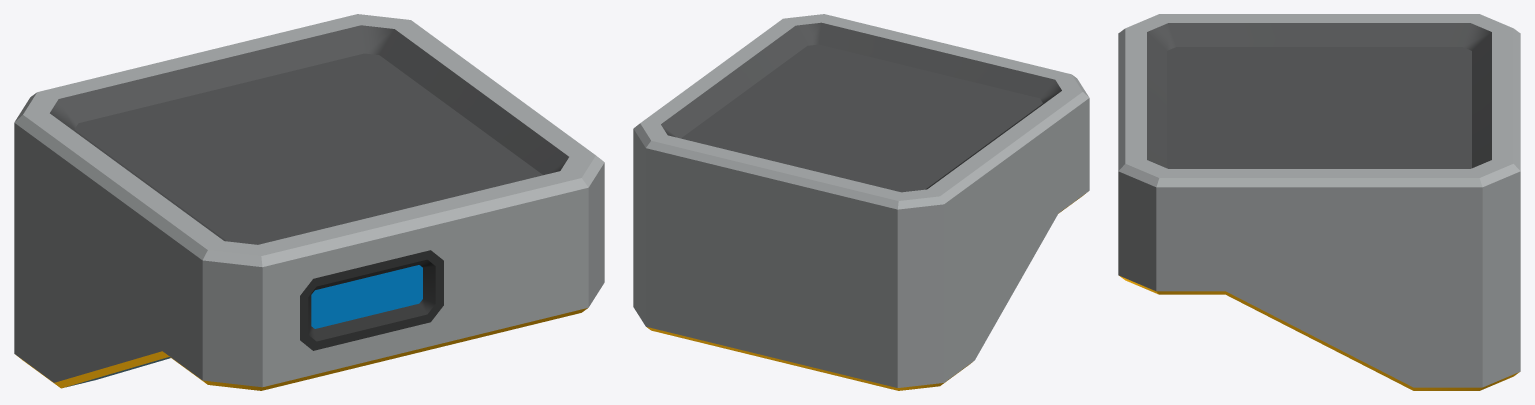
File: Crate_003_001.fbx
3 views of the same model, side by side, from view 1: azimuth 30°, elevation 25°; view 2: azimuth 150°, elevation 25°; view 3: azimuth 270°, elevation 25° (orthographic). The views are drawn at different scales.
Parts seen in each view (by area): view 1: Crate_003_001; view 2: Crate_003_001; view 3: Crate_003_001.
Boxes of the visible parts, box(x1,y1,x2,y2) form: Crate_003_001: box(14, 14, 604, 390); Crate_003_001: box(633, 14, 1089, 390); Crate_003_001: box(1118, 14, 1520, 390).
Bounding box in the file's own units: 39.99 × 39.99 × 23.36.
